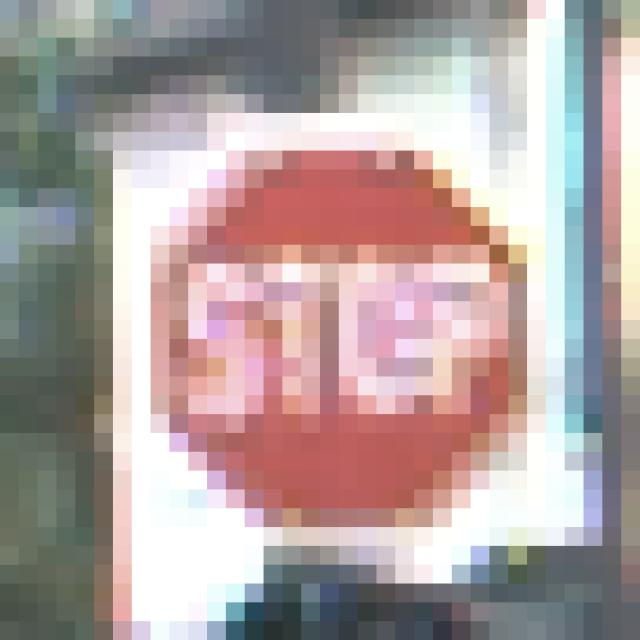STOP: (114, 95, 547, 547)
